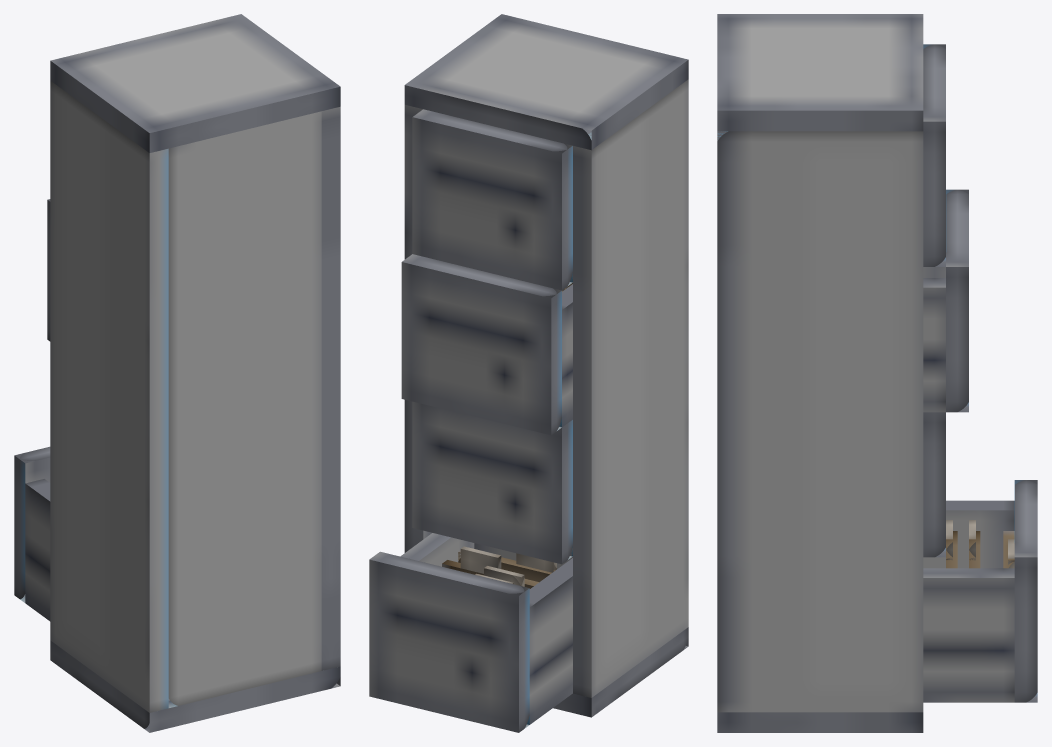
The model's file is low-poly-office-shelf.obj.
3 views of the same model, side by side, from view 1: azimuth 30°, elevation 25°; view 2: azimuth 150°, elevation 25°; view 3: azimuth 270°, elevation 25° (orthographic). The views are drawn at different scales.
Visible parts, largest first — view 1: obj4, obj3, obj5, obj2, obj1, obj51, obj53, obj33; view 2: obj3, obj18, obj33, obj53, obj5, obj38, obj51, obj2, obj1, obj31, obj55, obj60 (+1 smaller); view 3: obj2, obj5, obj55, obj53, obj33, obj18, obj1, obj51, obj38, obj35.
Boxes of the visible parts, left/top/right/bottom form: obj4: left=168, top=111, right=321, bottom=707; obj3: left=50, top=81, right=168, bottom=712; obj5: left=50, top=14, right=340, bottom=152; obj2: left=321, top=106, right=340, bottom=670; obj1: left=50, top=640, right=340, bottom=732; obj51: left=25, top=479, right=50, bottom=621; obj53: left=14, top=446, right=50, bottom=602; obj33: left=47, top=199, right=50, bottom=341; obj3: left=573, top=79, right=688, bottom=697; obj18: left=412, top=109, right=572, bottom=290; obj33: left=401, top=254, right=561, bottom=435; obj53: left=369, top=551, right=529, bottom=732; obj5: left=404, top=14, right=688, bottom=150; obj38: left=412, top=401, right=572, bottom=564; obj51: left=527, top=558, right=572, bottom=724; obj2: left=404, top=105, right=431, bottom=552; obj1: left=553, top=627, right=688, bottom=717; obj31: left=559, top=284, right=572, bottom=427; obj55: left=400, top=533, right=474, bottom=566; obj60: left=460, top=546, right=501, bottom=573; obj2: left=717, top=131, right=923, bottom=712; obj5: left=717, top=14, right=923, bottom=131; obj55: left=923, top=568, right=1014, bottom=702; obj53: left=1014, top=480, right=1037, bottom=702; obj33: left=946, top=189, right=968, bottom=412; obj18: left=923, top=44, right=945, bottom=266; obj1: left=717, top=712, right=923, bottom=732; obj51: left=923, top=500, right=1014, bottom=568; obj38: left=923, top=412, right=945, bottom=557; obj35: left=923, top=278, right=945, bottom=412.
Bounding box in the file's own units: 0.625 × 1.88 × 0.875.
Materials: 1 (1 with a texture image).
